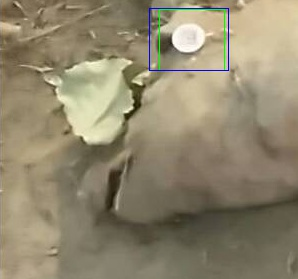text: (159, 9, 224, 70)
